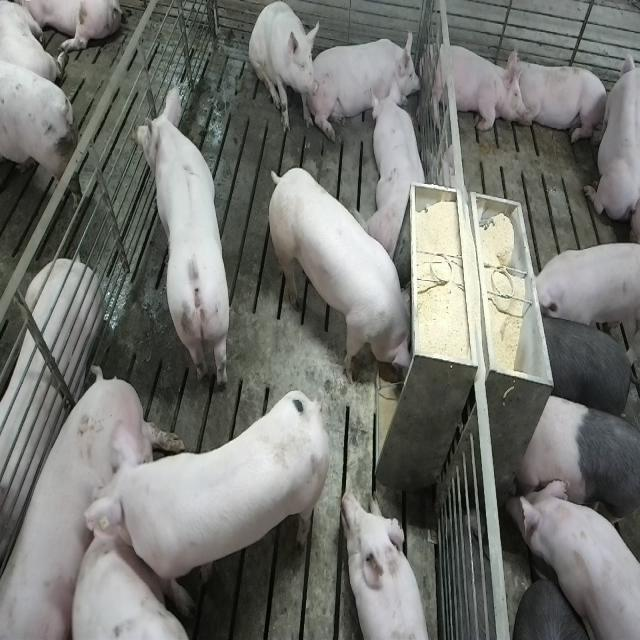Feeding: (272, 166, 422, 391)
Lateral_lying: (0, 368, 180, 640), (0, 257, 104, 599)
Sitting: (249, 2, 320, 138)
Standing: (79, 390, 331, 606), (134, 84, 234, 398), (504, 471, 638, 640), (515, 387, 638, 548), (71, 542, 208, 637), (536, 310, 638, 419), (528, 242, 637, 341)
Sternal_lying: (342, 488, 433, 640), (314, 27, 422, 138), (369, 83, 430, 263), (584, 42, 638, 231), (426, 37, 524, 135), (511, 52, 609, 146)
